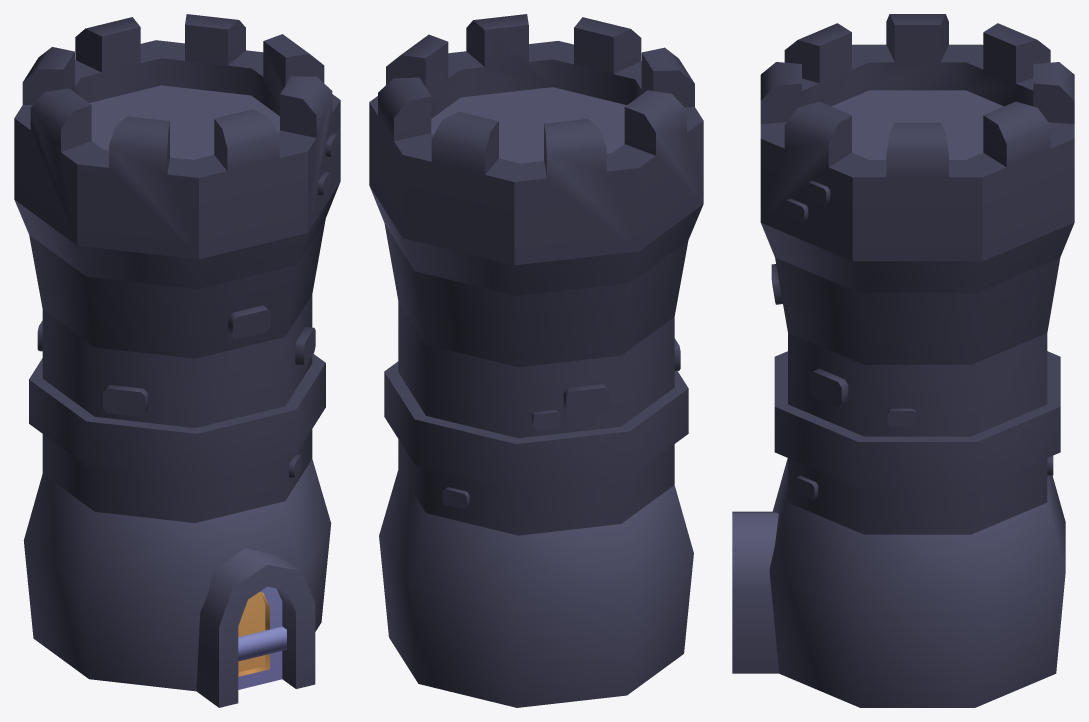
The model's file is tower-complete-small.fbx.
The picture shows the model from 3 angles, left to right: view 1: azimuth 30°, elevation 25°; view 2: azimuth 150°, elevation 25°; view 3: azimuth 270°, elevation 25°; orthographic projection. The views are drawn at different scales.
Parts seen in each view (by area): view 1: tower-complete-small; view 2: tower-complete-small; view 3: tower-complete-small.
Boxes of the visible parts, box(x1,y1,x2,y2) form: tower-complete-small: box(14, 14, 340, 707); tower-complete-small: box(369, 14, 703, 707); tower-complete-small: box(732, 14, 1074, 707).
Size of the model in its own units: 335 by 678 by 366.
